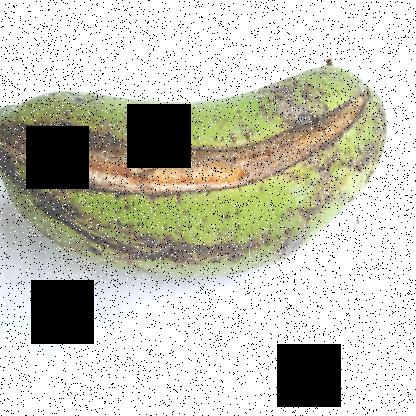rotten: (0, 70, 373, 215)
